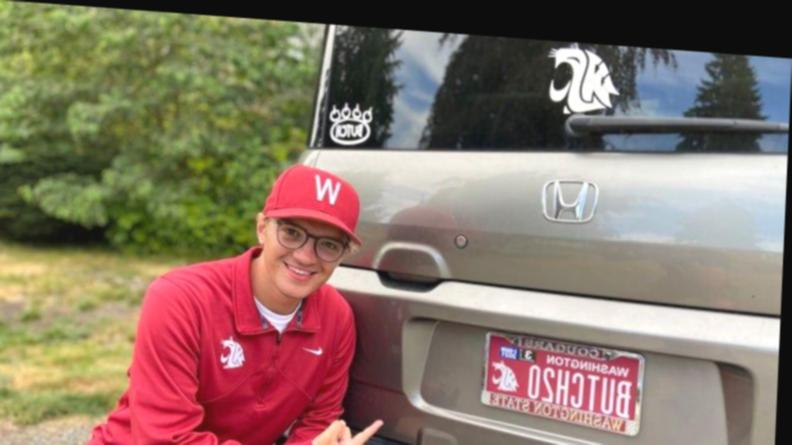License_Plate: (466, 329, 657, 441)
